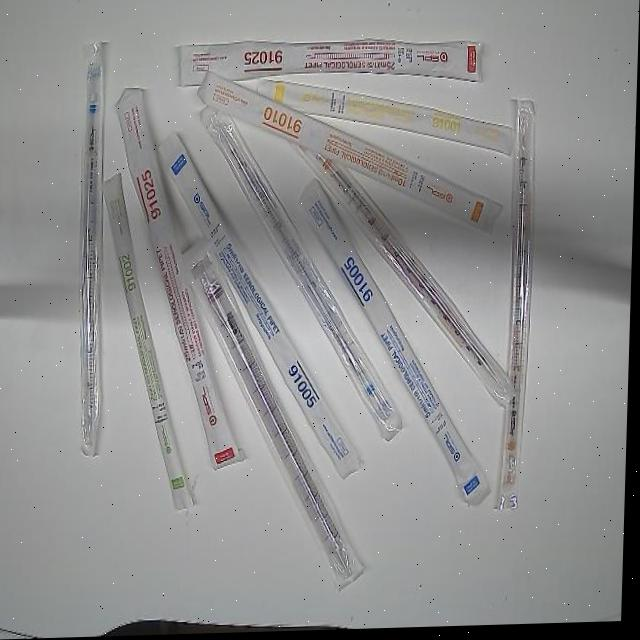Serelogical Pipet 1 mL - Sealed: (227, 68, 522, 169)
Serelogical Pipet 10 mL - Sealed: (285, 129, 528, 418), (194, 65, 509, 244), (500, 99, 539, 518)
Serelogical Pipet 2 mL - Sealed: (95, 170, 208, 516)
Serelogical Pipet 25 mL - Sealed: (107, 83, 261, 475), (175, 33, 488, 93)
Serelogical Pipet 5 mL - Sealed: (149, 128, 376, 490), (192, 95, 416, 451), (290, 173, 503, 517), (71, 35, 114, 460)
Serelogical Pipet 50 mL - Sealed: (176, 235, 380, 602)
